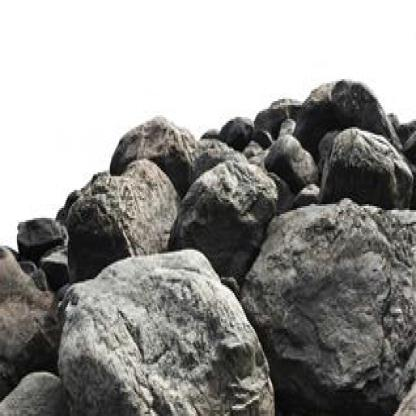Igneous_Basalt: (56, 242, 279, 414), (243, 200, 415, 414), (57, 158, 180, 256), (176, 154, 274, 264), (99, 113, 208, 200), (320, 123, 415, 222), (294, 78, 392, 166)
